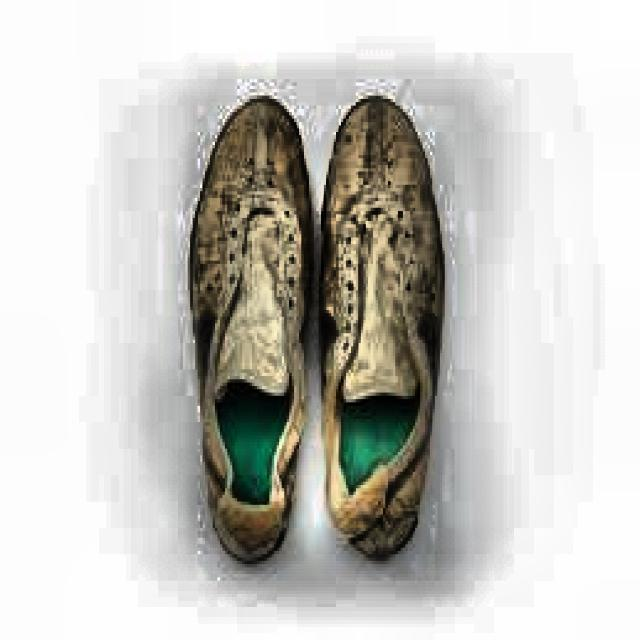shoes: (162, 82, 484, 591)
